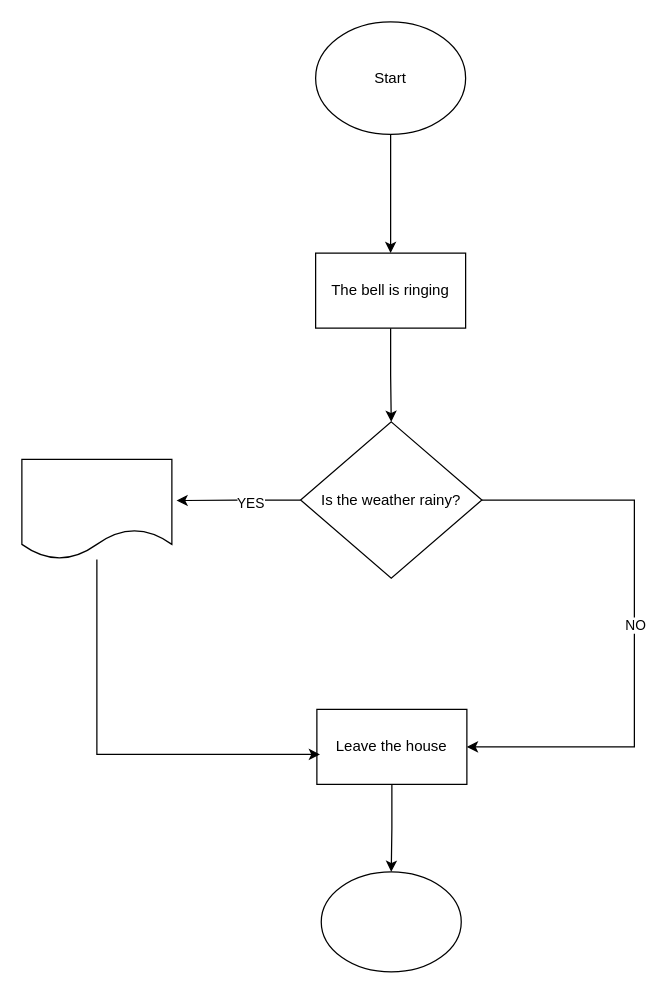
This 668x994 diagram has some shape labels left out. Each missing label, with the centre of its shape:
"End" belongs at point 390,921.
"Take an umbrelle" belongs at point 96,508.
